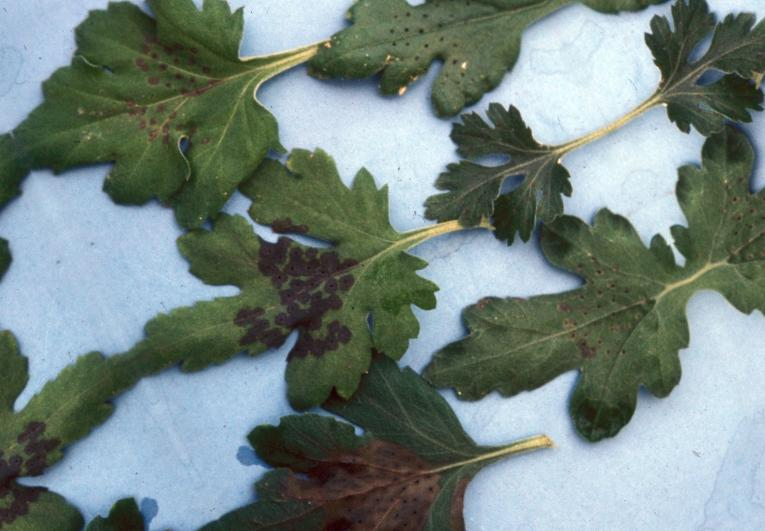Tomato leaf bacterial spot: (364, 166, 733, 519), (0, 0, 365, 291), (244, 0, 559, 180), (393, 65, 618, 273)
